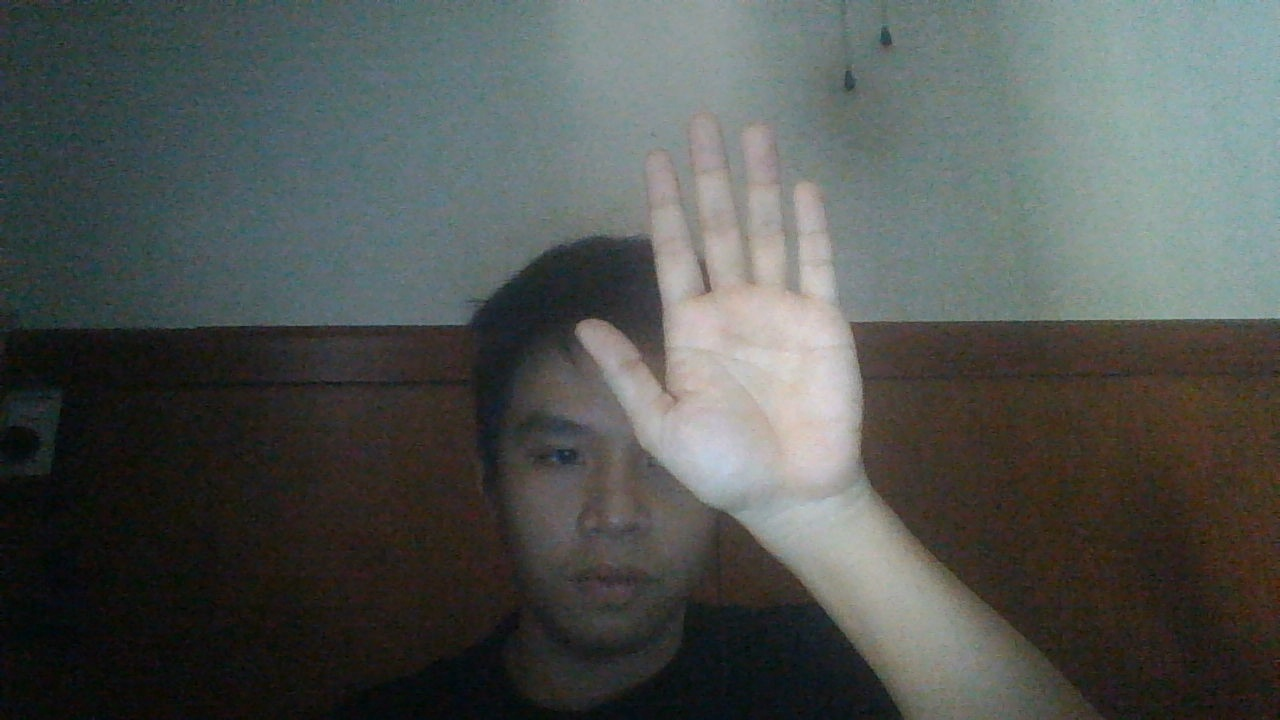check: (579, 108, 872, 511)
